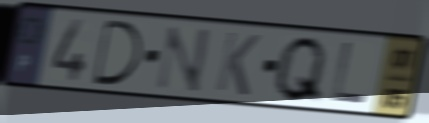4: (49, 15, 90, 84)
D: (90, 17, 145, 88)
K: (213, 29, 263, 99)
L: (329, 40, 370, 108)
N: (152, 24, 215, 96)
Q: (270, 34, 330, 107)
